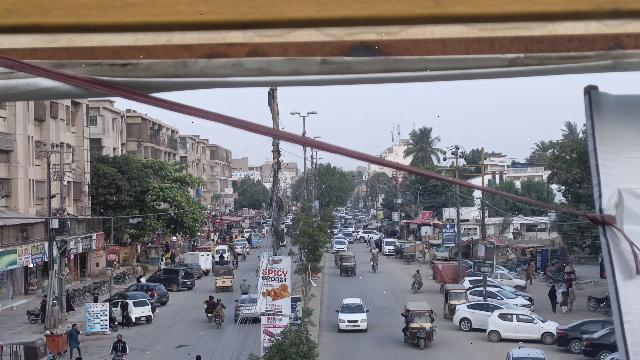Bike: (412, 276, 423, 295), (369, 260, 381, 276), (214, 312, 224, 330), (205, 308, 216, 324)
Car: (484, 306, 557, 346), (554, 317, 606, 351), (451, 300, 506, 332), (335, 297, 371, 334), (149, 266, 196, 293), (580, 325, 613, 359), (129, 299, 155, 327)
Person: (65, 323, 84, 358), (545, 284, 559, 313), (110, 332, 129, 353), (557, 283, 569, 314), (49, 299, 60, 331), (119, 297, 130, 328), (566, 282, 575, 312), (523, 262, 534, 286), (214, 296, 228, 313), (203, 293, 217, 310), (412, 267, 423, 279), (369, 253, 379, 261)
Rickshaw: (399, 299, 439, 351), (441, 282, 467, 322), (213, 265, 235, 292), (338, 252, 359, 279)
